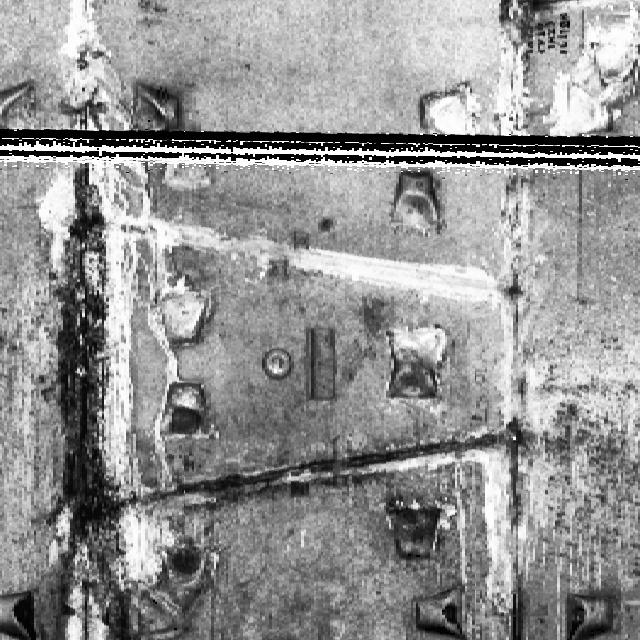leakage: (29, 4, 132, 639)
